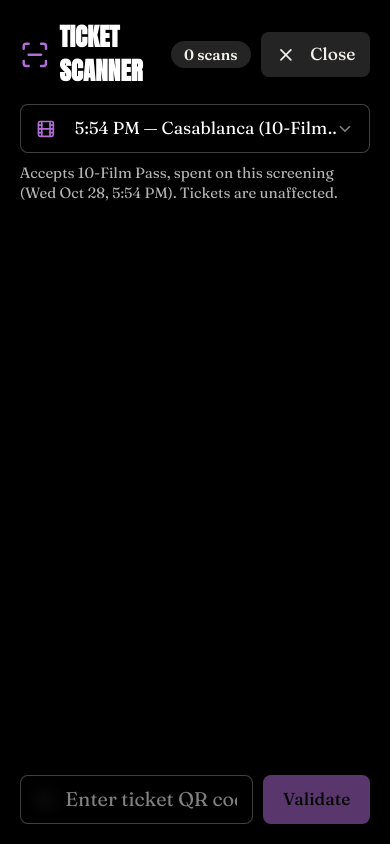
Test: TicketScanner - GA, event, and concert tickets › refuses a ticket for another screening, and says it was not used
Expected: the text "Accepts 10-Film Pass, spent on this screening" is shown, [20, 163, 370, 203]
Type "QR-OTHER-NIGHT" into the field with placeholder "Enter ticket QR code..." at {"x": 137, "y": 799}, box [20, 775, 253, 824]
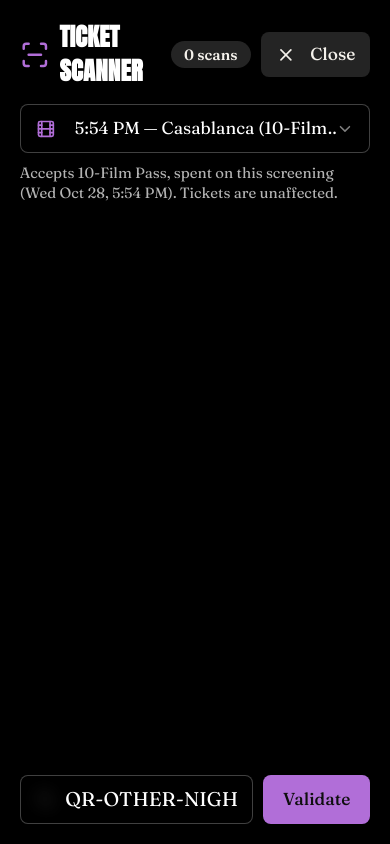
Click the button "Validate" at {"x": 317, "y": 799}, box [263, 775, 370, 824]
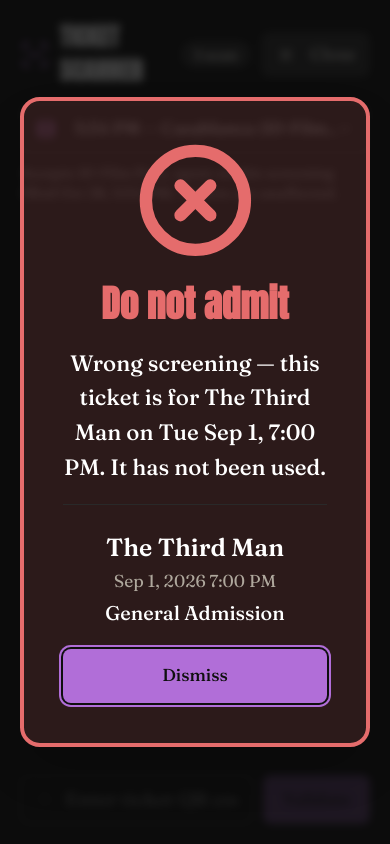
Expected: the text "has not been used" is shown, [64, 349, 326, 481]
